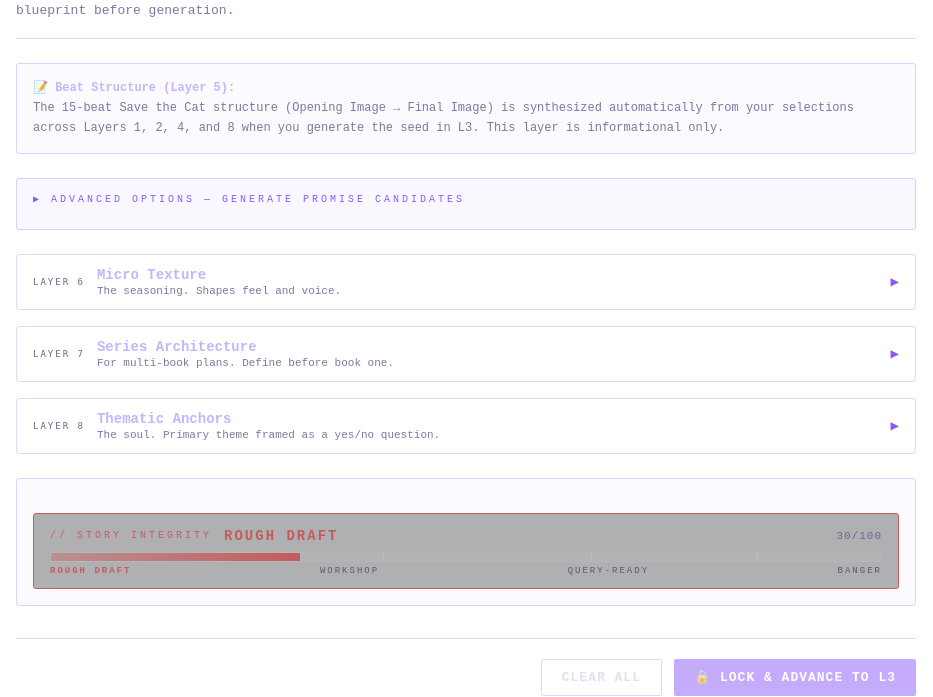
Test: L2Promise › enables lock button only when candidate is picked
Expected: the button "🔒 LOCK & ADVANCE TO L3" is disabled, x1=674 y1=659 x2=916 y2=696
Open advanced options and generate
Click the text "▶ ADVANCED OPTIONS — GENERATE PROMISE CANDIDATES" at (249, 199), box x1=33 y1=194 x2=465 y2=205
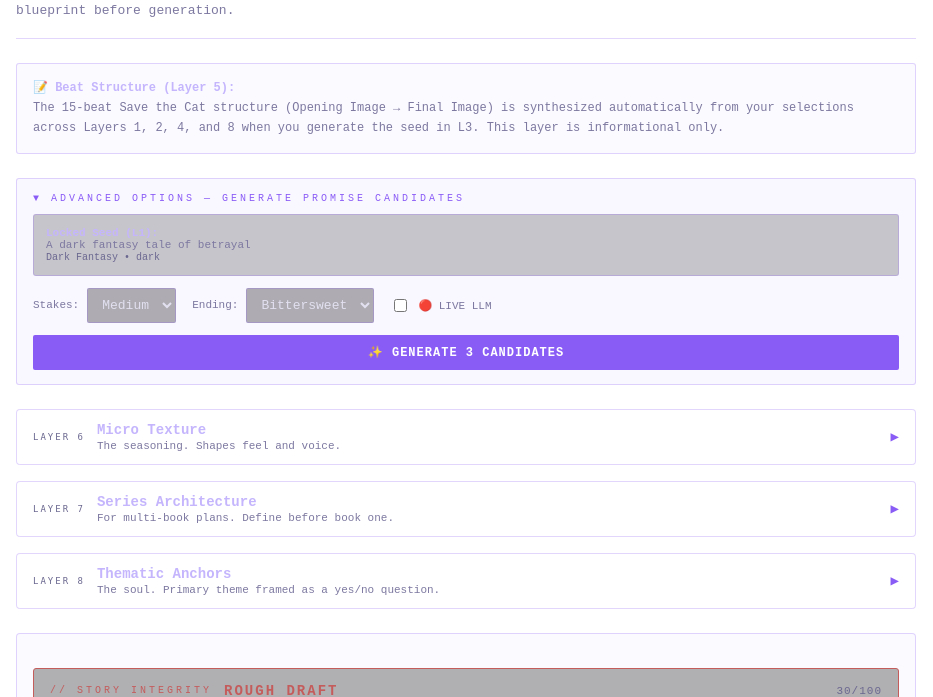
Click the button "✨ GENERATE 3 CANDIDATES" at (466, 352), box x1=33 y1=335 x2=899 y2=370
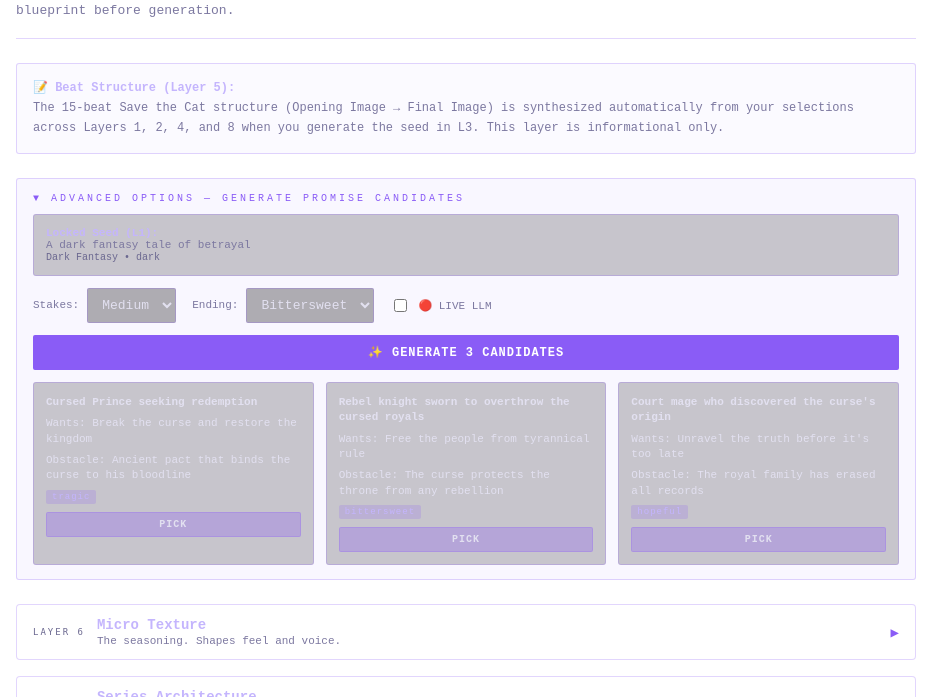
Expected: the text "Cursed Prince seeking redemption" is shown, x1=46 y1=396 x2=257 y2=408
Pick first candidate
Click the button "PICK" below "tragic" at (173, 524), box x1=46 y1=512 x2=301 y2=537
(page scrolled)
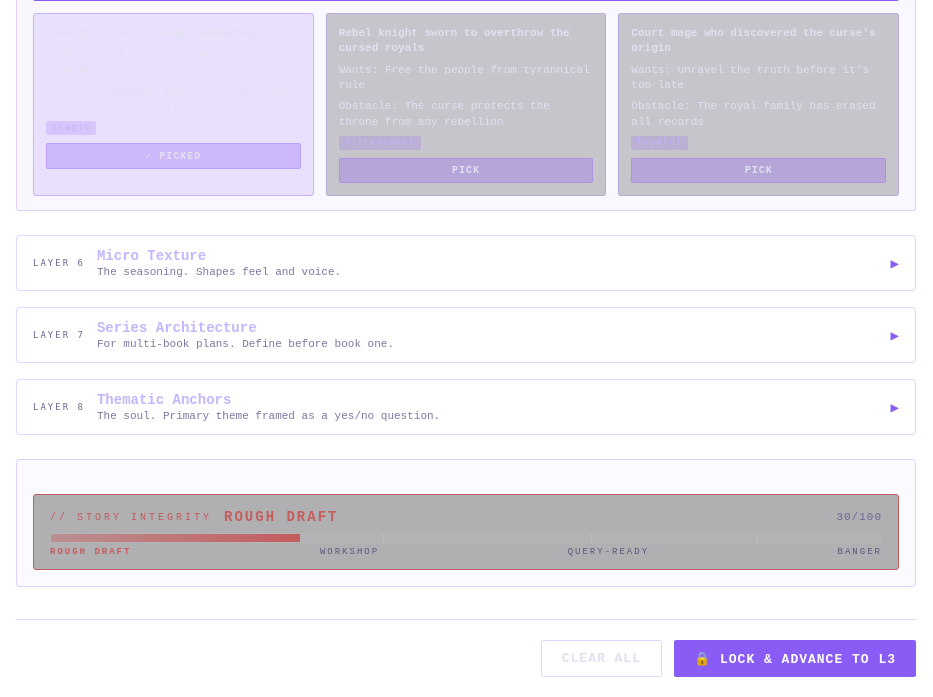
Expected: the button "🔒 LOCK & ADVANCE TO L3" is enabled, x1=674 y1=640 x2=916 y2=677
